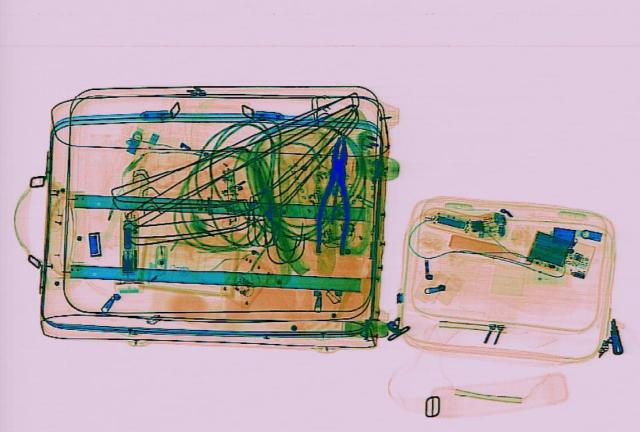Pliers: (310, 137, 358, 255)
